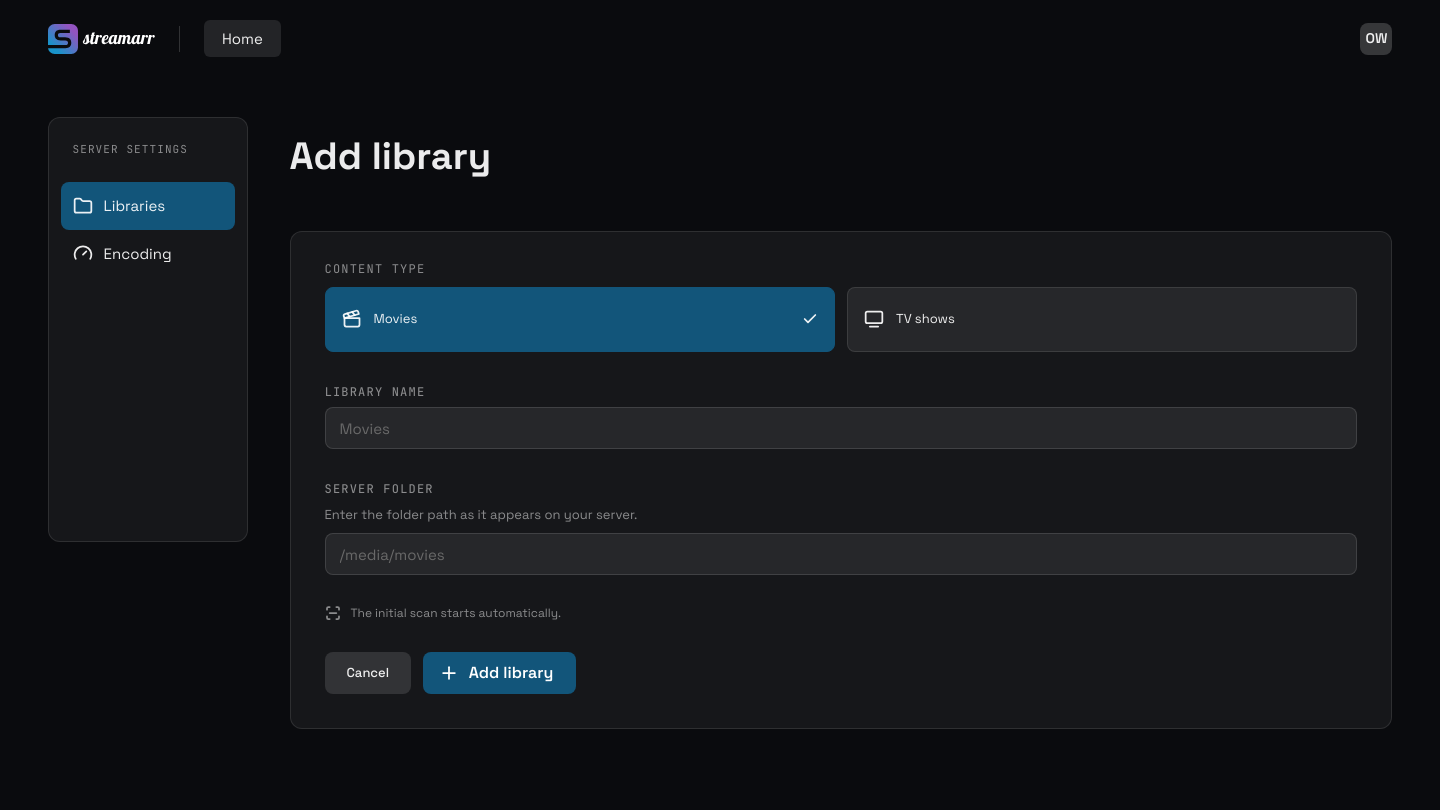
Test case: library administration › shouldSayNothingStartedAndKeepTheDraftWhenCreationFailsWithTheNotStartedCode
In the field labelled "Library name": (841, 428) x1=324 y1=407 x2=1358 y2=449, type "Family"
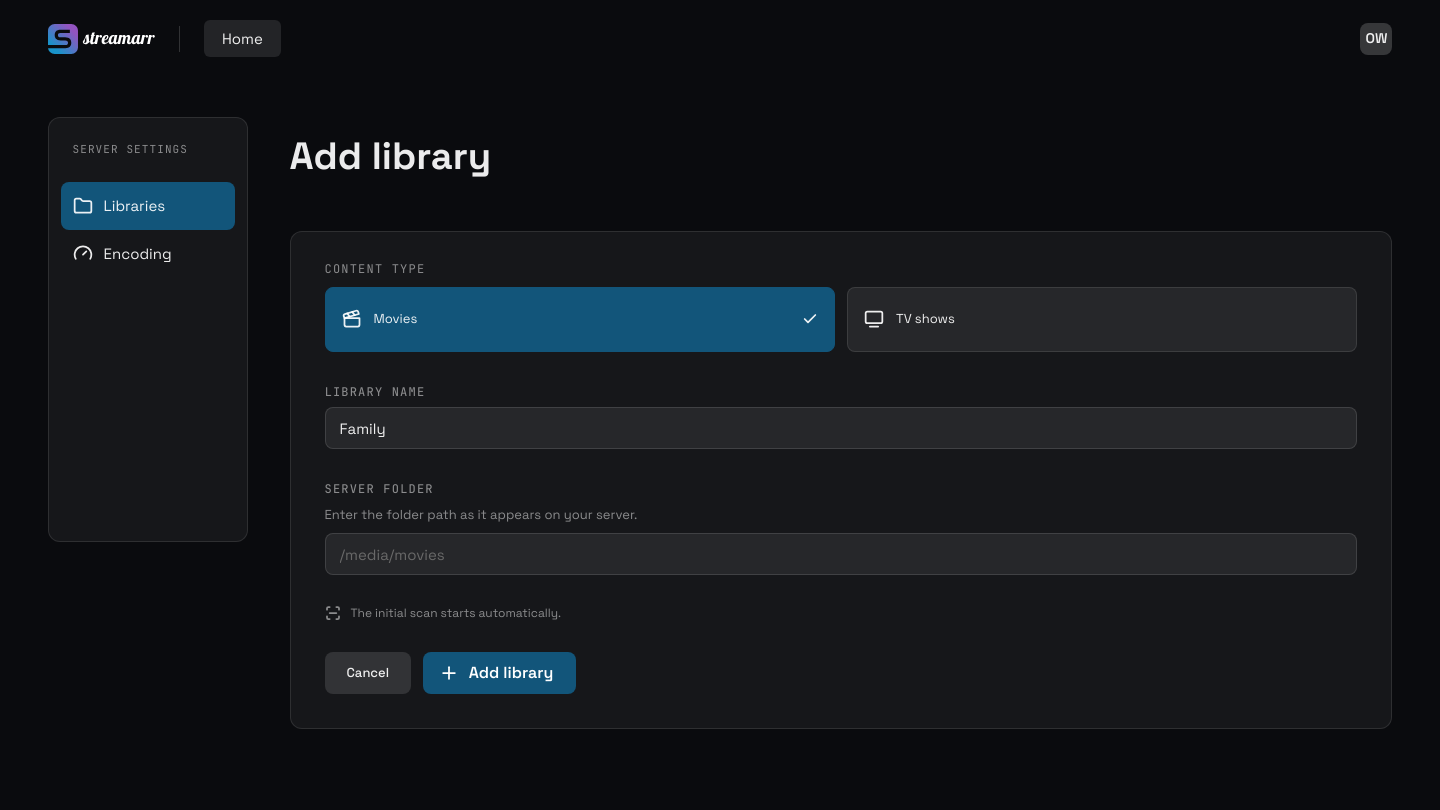
In the field labelled "Server folder": (841, 554) x1=324 y1=533 x2=1358 y2=575, type "/media/family"
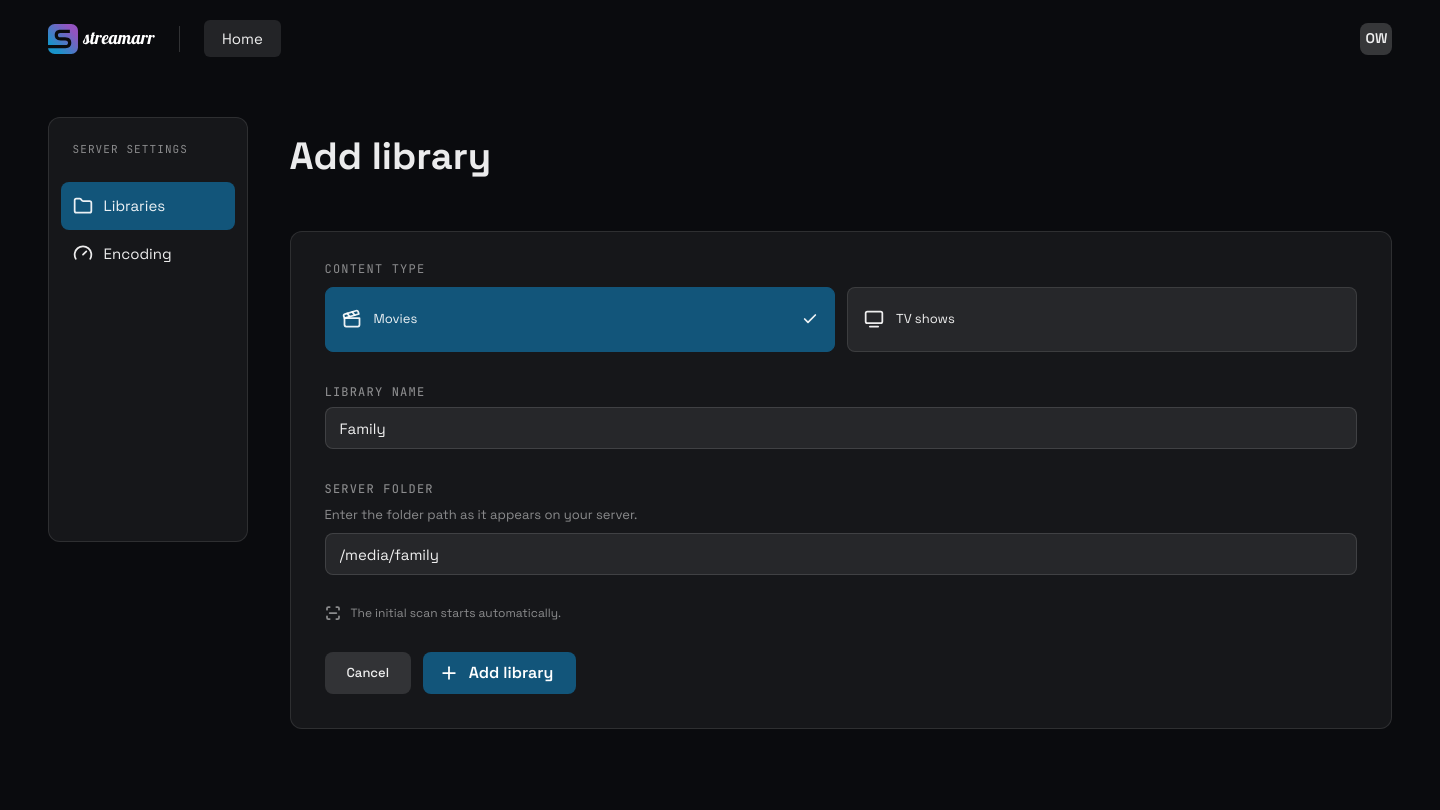
Click the button "Add library": click(500, 673) x1=423 y1=652 x2=576 y2=694
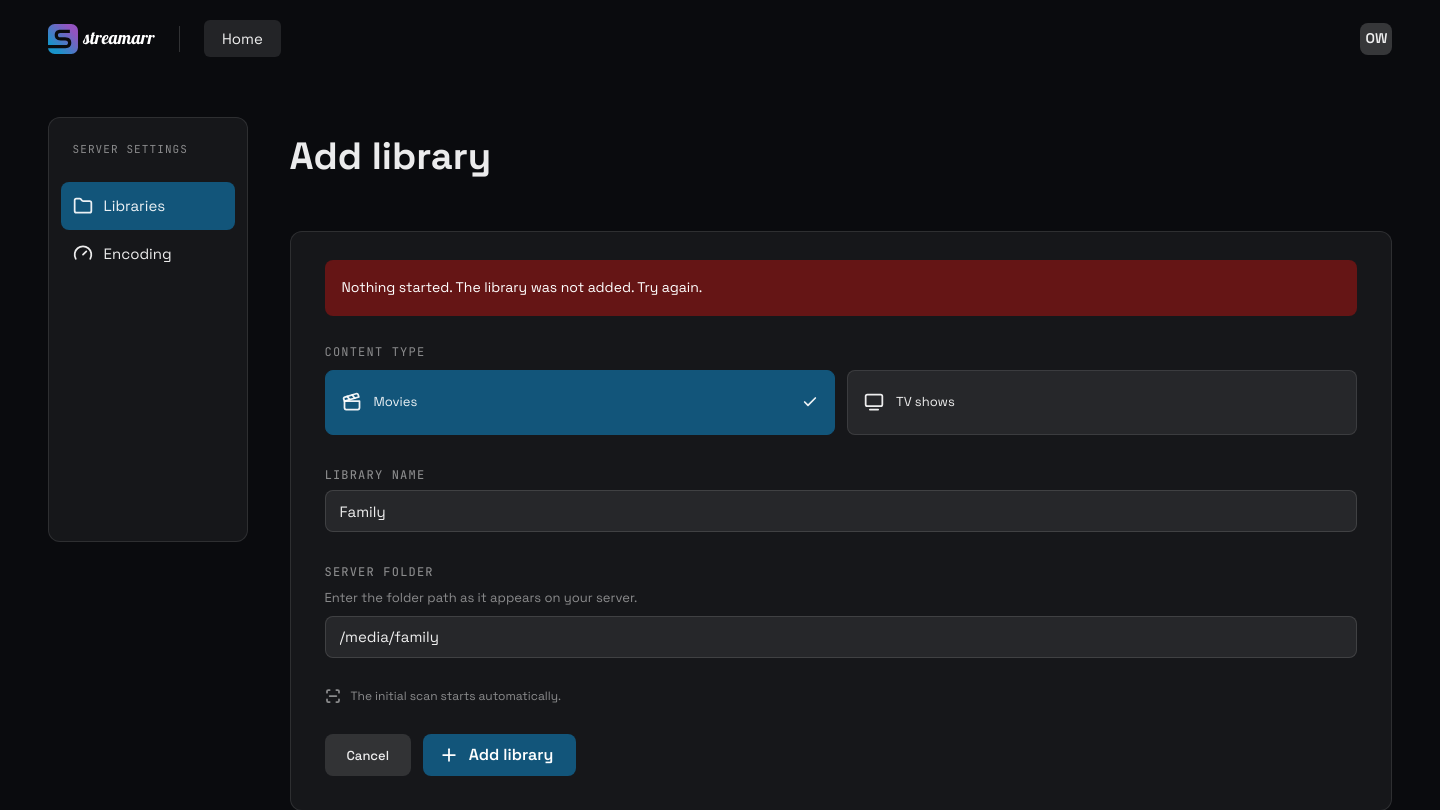
Now the message reads "Nothing started. The library was not added. Try again.", box x1=342 y1=278 x2=702 y2=296
